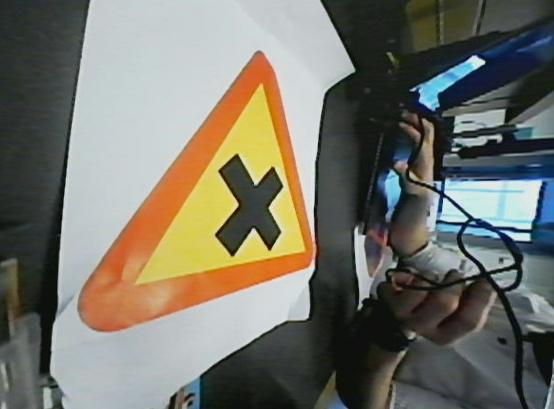junction: (88, 35, 325, 333)
